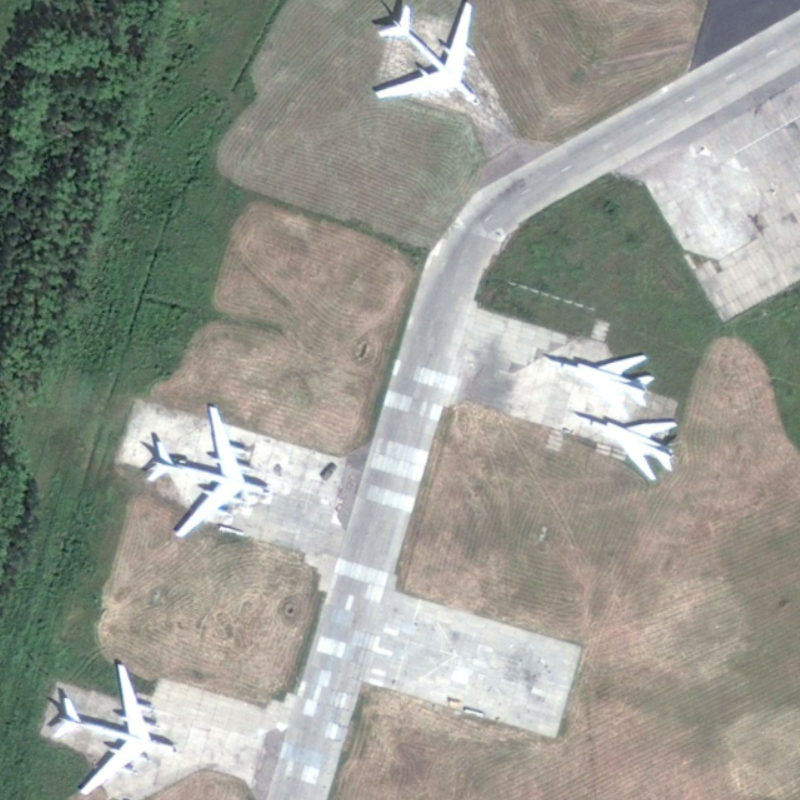A12: (543, 351, 657, 423), (570, 410, 680, 483)
A17: (50, 660, 178, 797), (144, 403, 267, 541), (372, 1, 479, 104)
